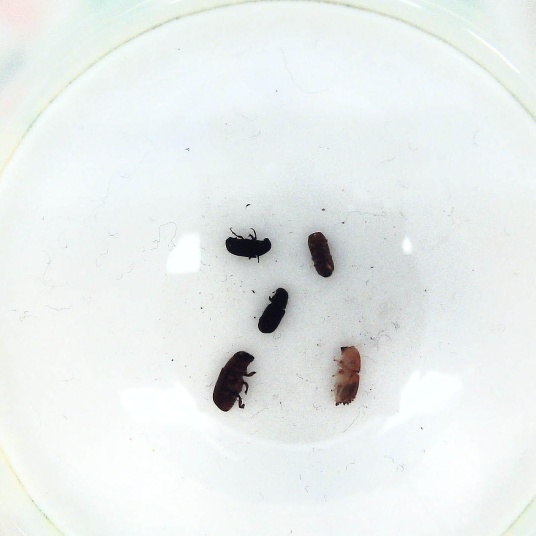armandi: (257, 286, 290, 335)
boerner: (327, 344, 365, 407)
coleoptera: (223, 228, 272, 264)
leconte: (212, 348, 256, 413)
linnaeus: (304, 228, 334, 280)
